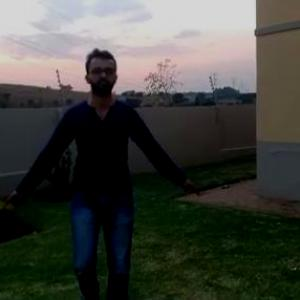land: (9, 51, 190, 286)
